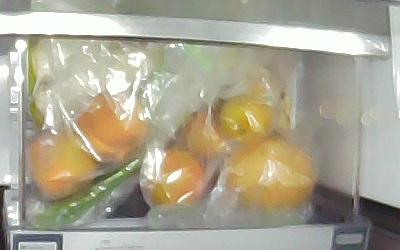peach_vinyl: (72, 92, 148, 168), (27, 136, 100, 199)
pear_vinyl: (227, 139, 316, 208)
tangerine_vinyl: (218, 96, 273, 142)
tomato_vinyl: (147, 151, 201, 206), (184, 107, 224, 159)
